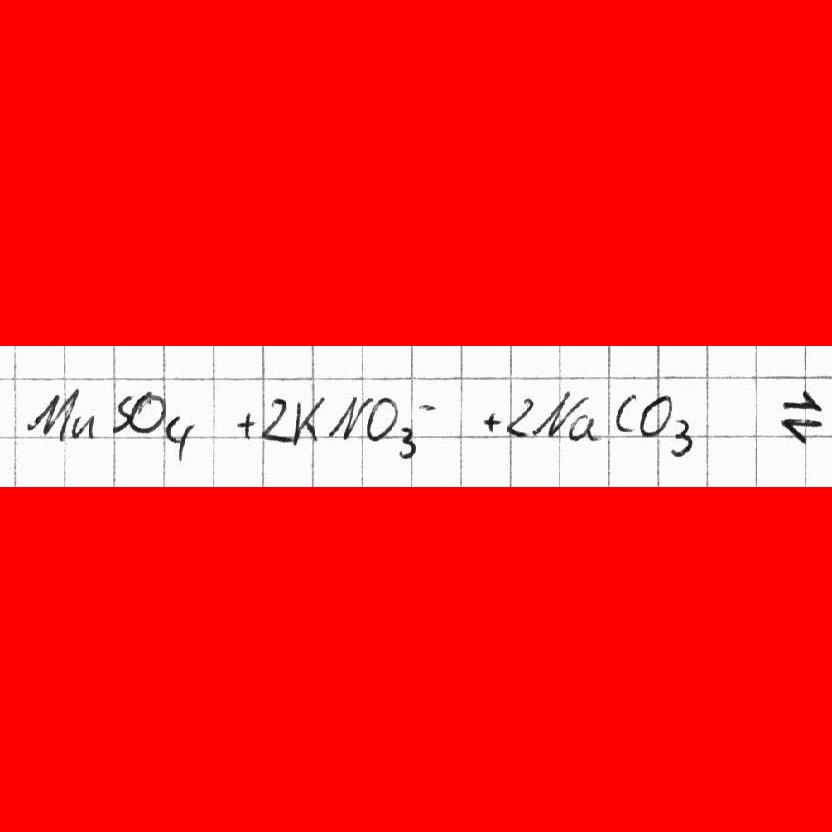Char: (25, 384, 79, 443), (528, 390, 588, 440), (777, 386, 824, 445), (325, 394, 372, 441), (162, 411, 197, 465), (290, 394, 326, 445), (634, 393, 673, 440), (128, 387, 166, 435), (258, 393, 292, 444), (367, 395, 400, 442), (503, 393, 535, 439), (610, 389, 638, 436), (669, 415, 695, 462), (112, 390, 132, 437), (568, 413, 597, 442), (395, 425, 419, 459), (68, 415, 97, 441), (235, 409, 253, 440), (482, 407, 502, 433), (414, 398, 439, 414)
